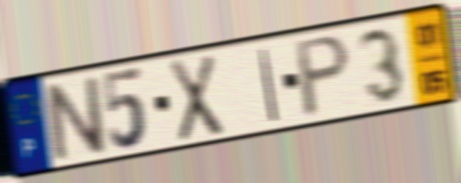3: (357, 24, 408, 105)
5: (100, 62, 153, 154)
I: (257, 46, 281, 124)
N: (41, 73, 111, 165)
P: (294, 32, 353, 123)
X: (167, 51, 226, 146)
